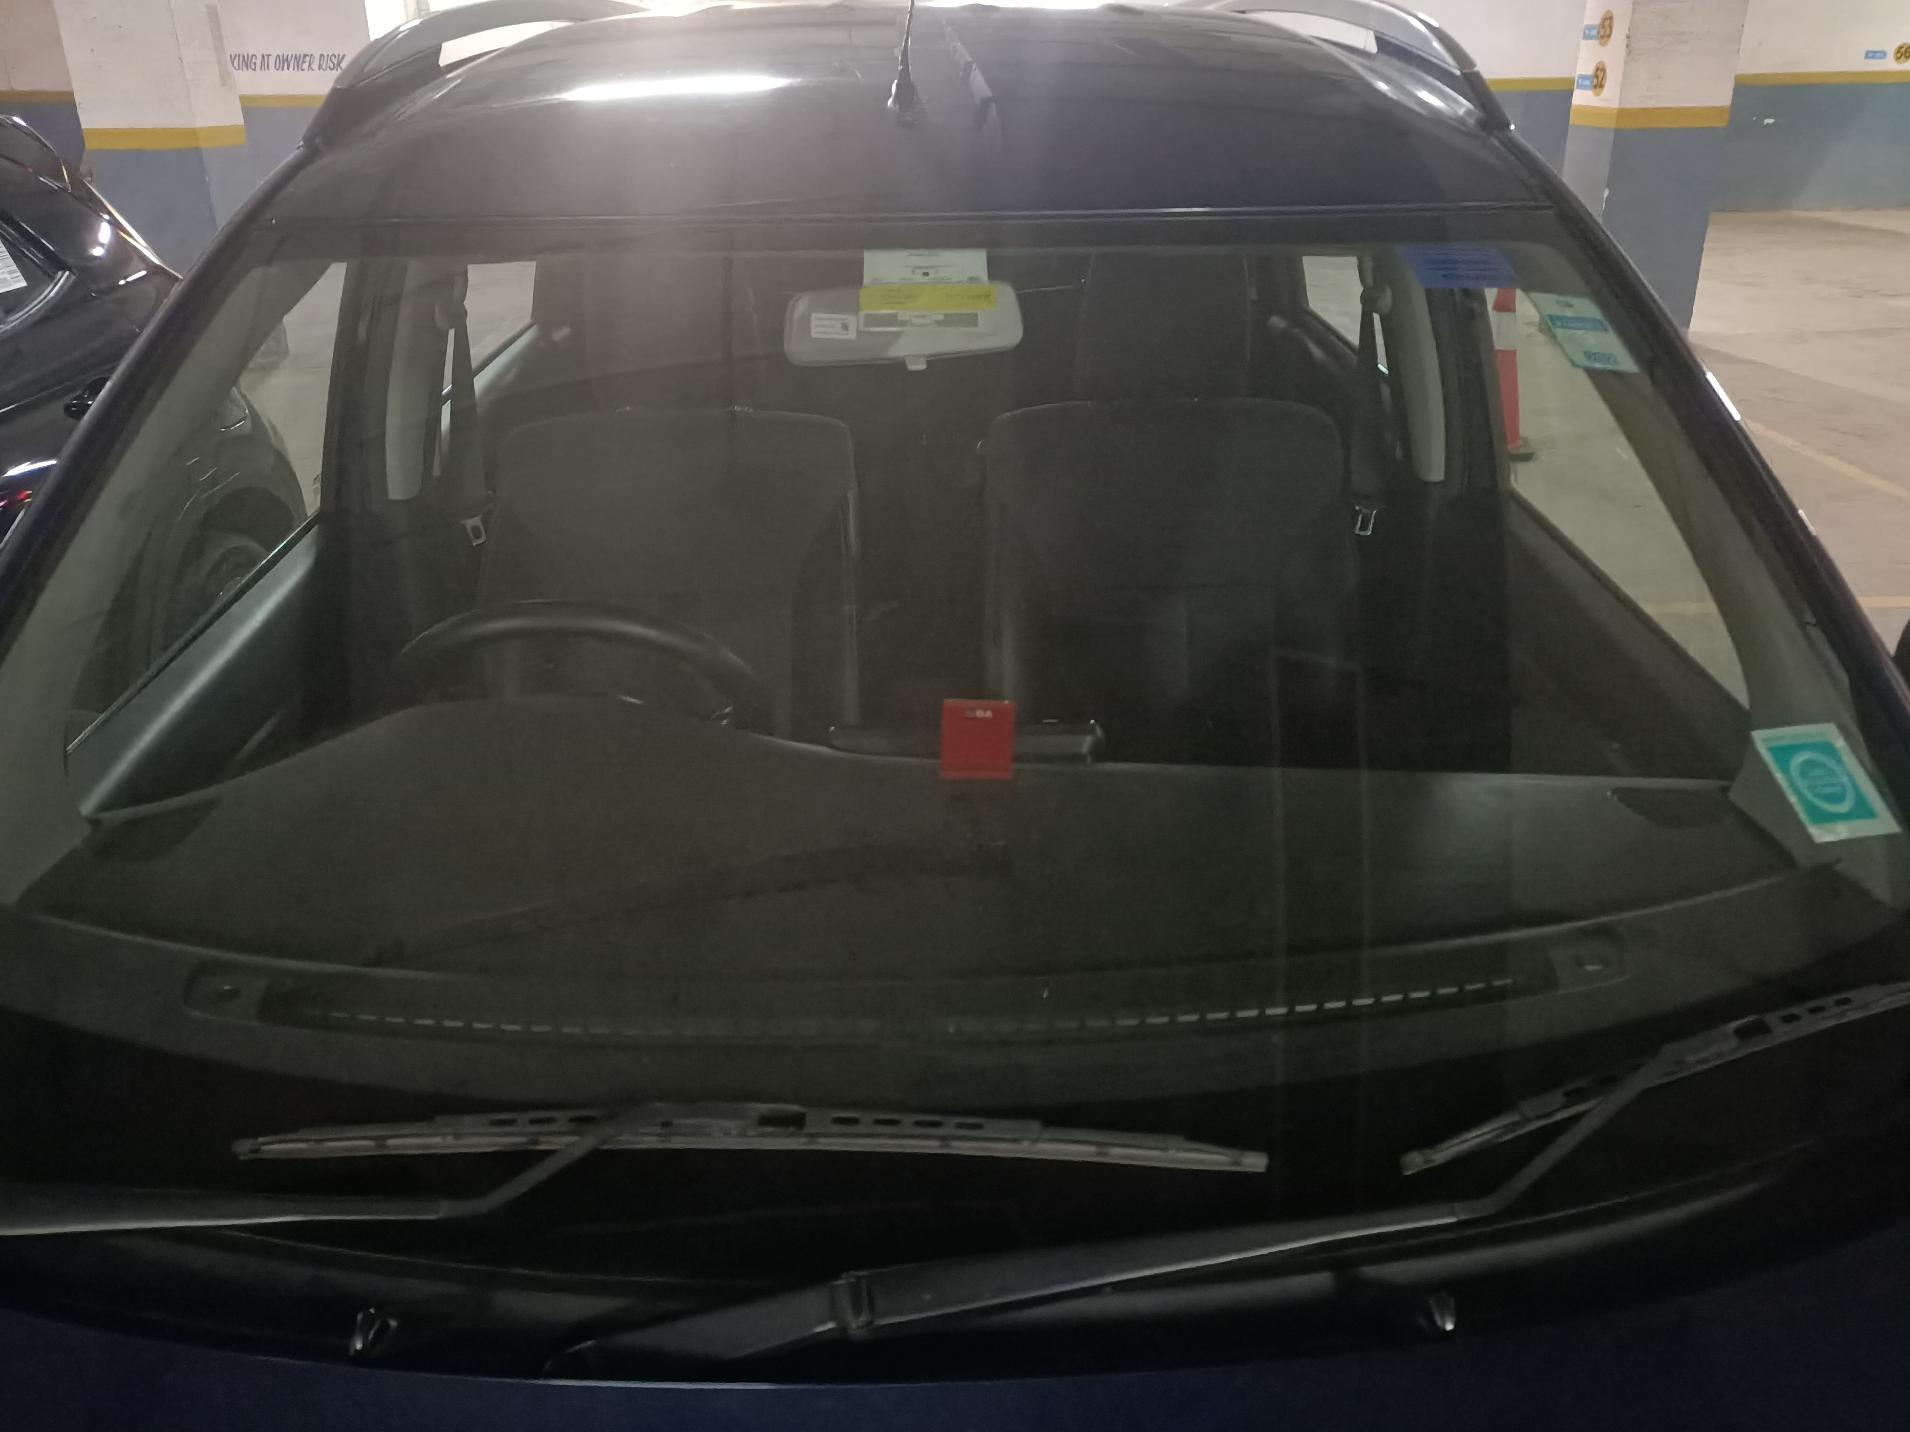FastTag: (851, 302, 988, 335)
not a FastTag: (1745, 713, 1907, 850), (1520, 289, 1672, 394), (1391, 232, 1531, 299), (844, 247, 996, 299)
